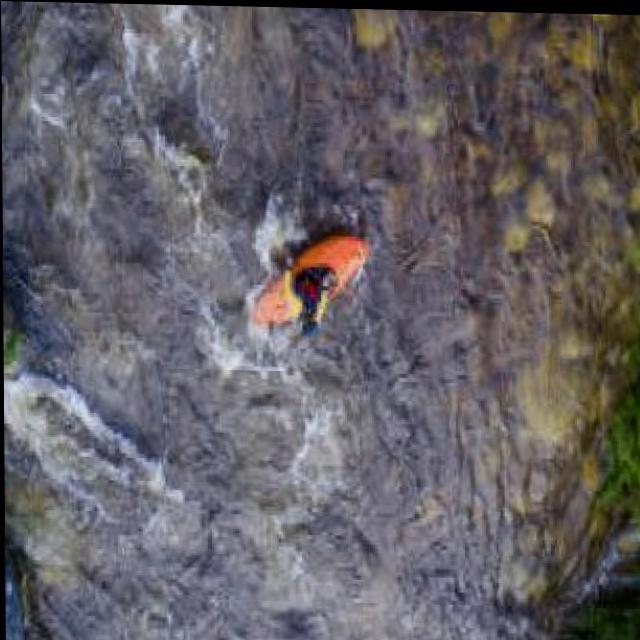kayak: (252, 233, 368, 330)
